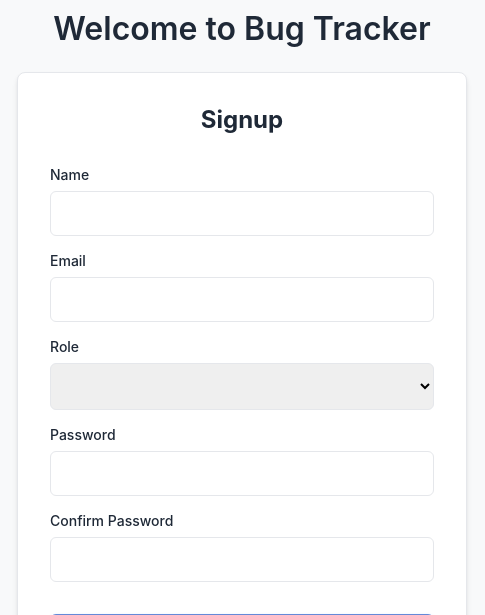
Test case: Signup flow › shows role required error
Focus the dropdown with test id "role-select": (242, 387) [50,363,434,410]
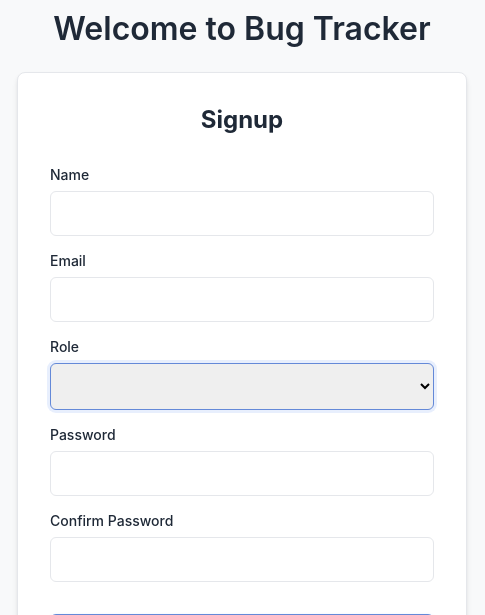
Leave the dropdown with test id "role-select", box [50,363,434,410]
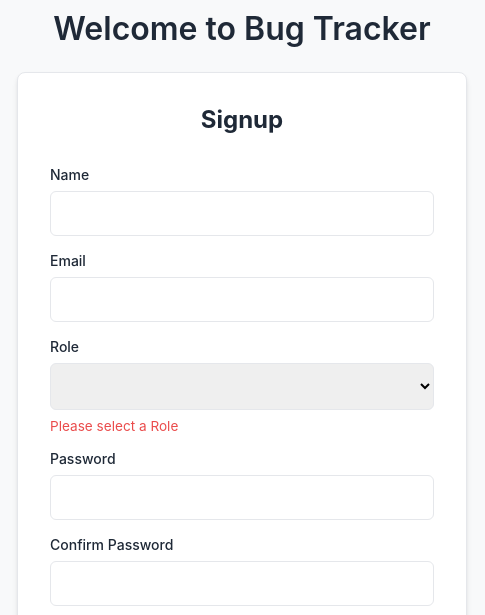
Expected: the text "Please select a Role" is shown, [50,418,178,434]
